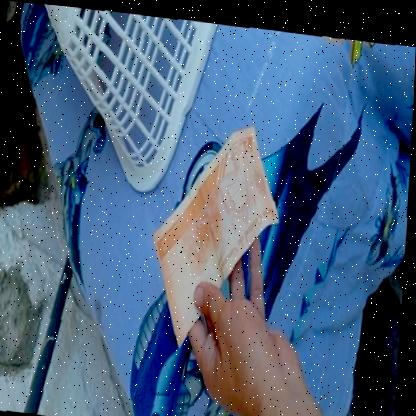twenty-back-vef: (147, 109, 289, 355)
